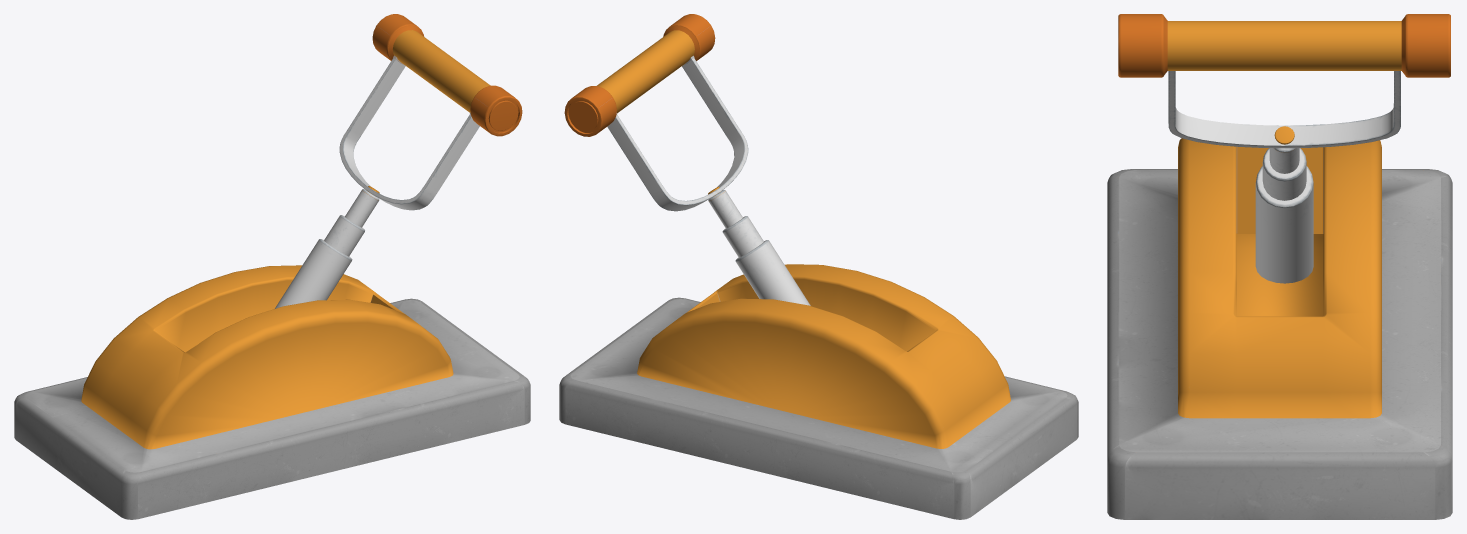
Rendered from lever2.glb.
The picture shows the model from 3 angles, left to right: view 1: azimuth 30°, elevation 25°; view 2: azimuth 150°, elevation 25°; view 3: azimuth 270°, elevation 25°; orthographic projection. The views are drawn at different scales.
Visible parts, largest first — view 1: lever_base, lever_handle; view 2: lever_base, lever_handle; view 3: lever_base, lever_handle.
Boxes of the visible parts, bbox=[...] form: lever_base: bbox=[14, 265, 530, 519]; lever_handle: bbox=[275, 14, 522, 308]; lever_base: bbox=[559, 264, 1078, 519]; lever_handle: bbox=[564, 14, 810, 305]; lever_base: bbox=[1107, 138, 1452, 519]; lever_handle: bbox=[1118, 14, 1450, 283].
Bounding box in the file's own units: 0.8329 × 0.6431 × 0.4164.
Materials: 1 (1 with a texture image).
